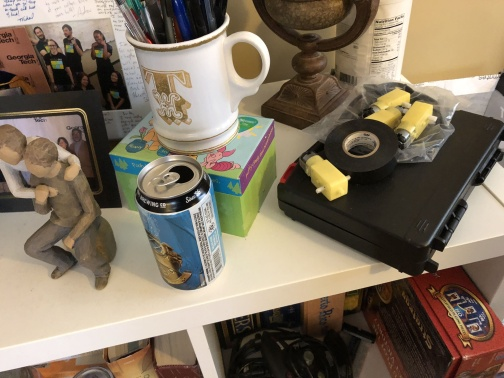can: (132, 154, 227, 292)
